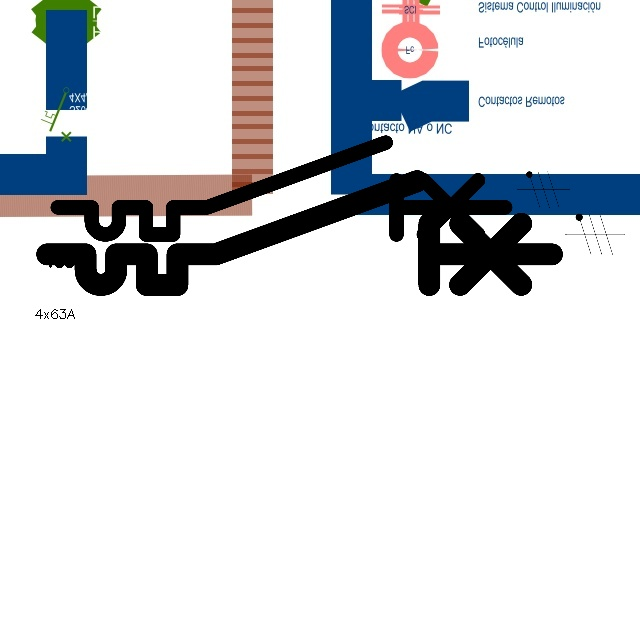interruptor_termomagnetico: (34, 168, 565, 298), (46, 131, 516, 246)
